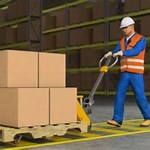Pallet Jack: (1, 51, 121, 147)
